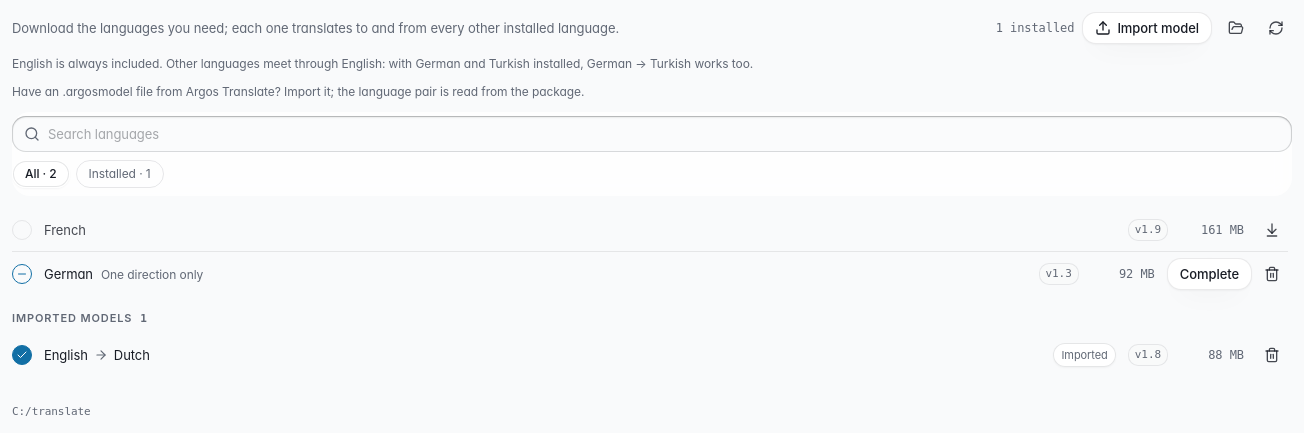
Test: TranslateModelsManager › shows a recovery empty state when the search matches nothing
expect the button named "Download language: French" is shown: met, box [1256,214,1288,246]
Step 1. Type "klingon" into the field labelled "Search languages" → (652, 134), box [12,116,1292,152]
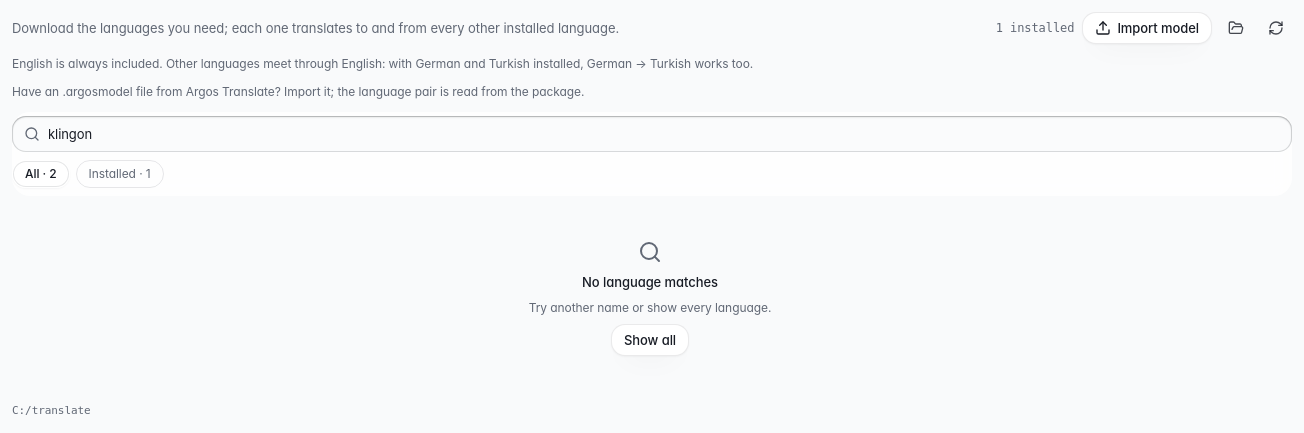
expect the text "No language matches" is shown: met, box [582,272,718,292]
Step 2. Click the button "Show all" → (650, 340), box [611,324,689,356]
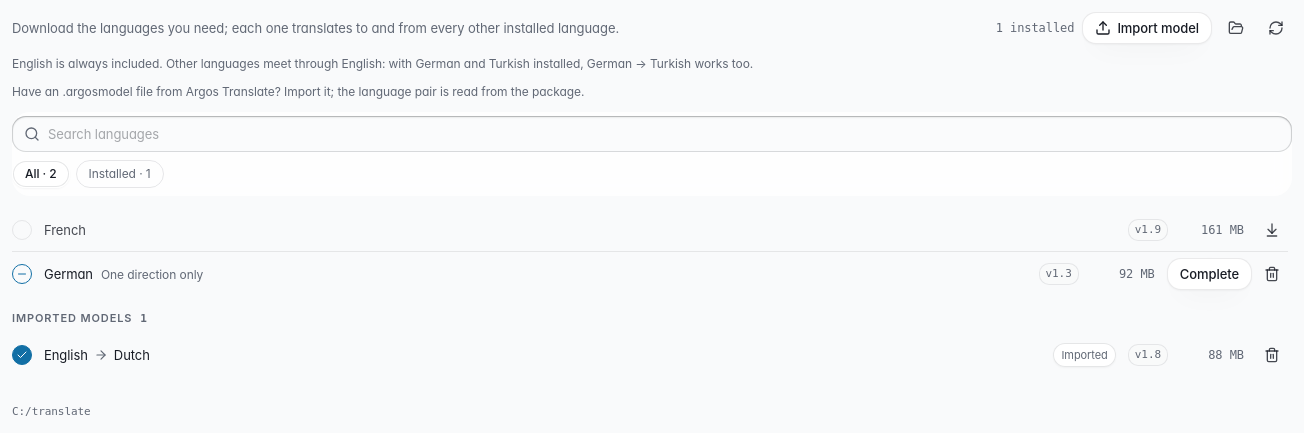
expect the button named "Download language: French" is shown: met, box [1256,214,1288,246]
